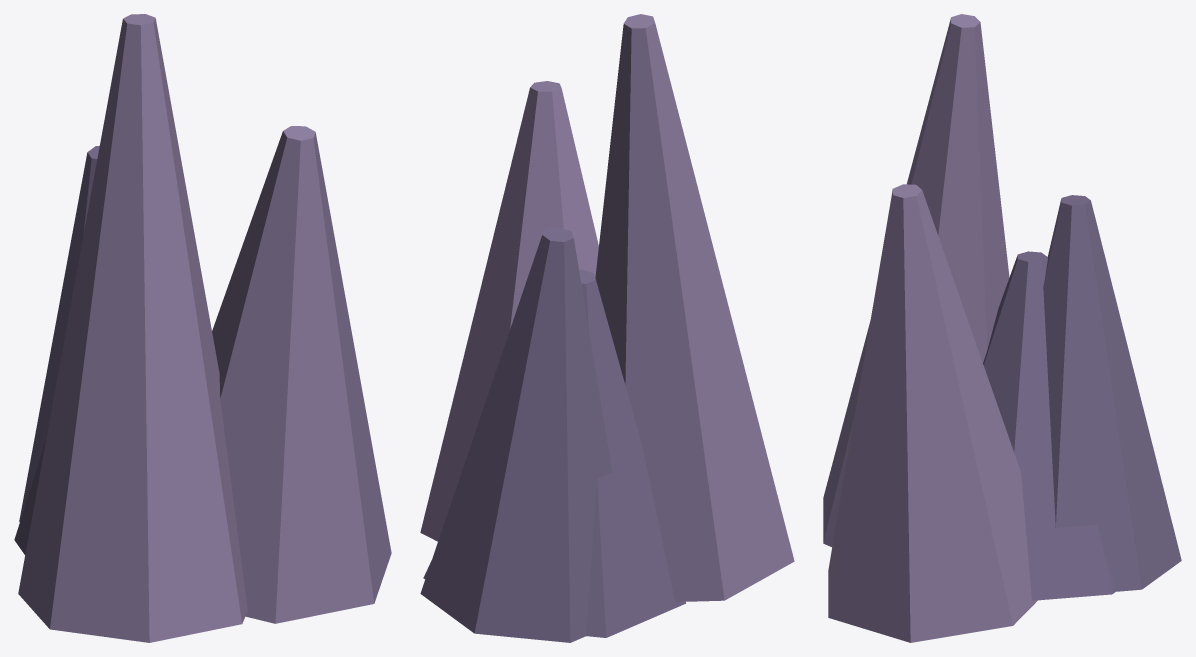
File: ember_crag_a.glb
The picture shows the model from 3 angles, left to right: view 1: azimuth 30°, elevation 25°; view 2: azimuth 150°, elevation 25°; view 3: azimuth 270°, elevation 25°; orthographic projection. The views are drawn at different scales.
Visible parts, largest first — view 1: Crag_02, Crag_01, Crag_03, Crag_00; view 2: Crag_02, Crag_03, Crag_01, Crag_00; view 3: Crag_01, Crag_03, Crag_02, Crag_00.
Boxes of the visible parts, x1,y1,x2,y2 form: Crag_02: (18, 14, 247, 642); Crag_01: (212, 126, 391, 623); Crag_03: (19, 145, 99, 521); Crag_00: (14, 439, 46, 554); Crag_02: (595, 14, 794, 601); Crag_03: (420, 227, 612, 642); Crag_01: (420, 81, 598, 541); Crag_00: (423, 269, 685, 637); Crag_01: (828, 184, 1037, 642); Crag_03: (1043, 195, 1181, 591); Crag_02: (823, 14, 1009, 546); Crag_00: (983, 251, 1115, 600).
Size of the model in its own units: 2.86 by 4.5 by 2.78.
